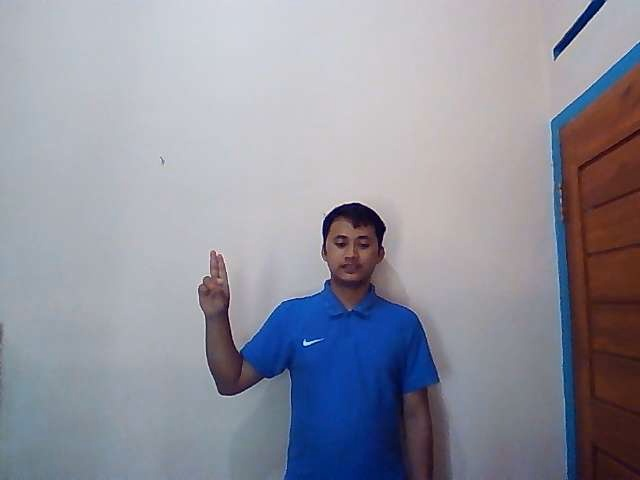U: (197, 249, 231, 312)
